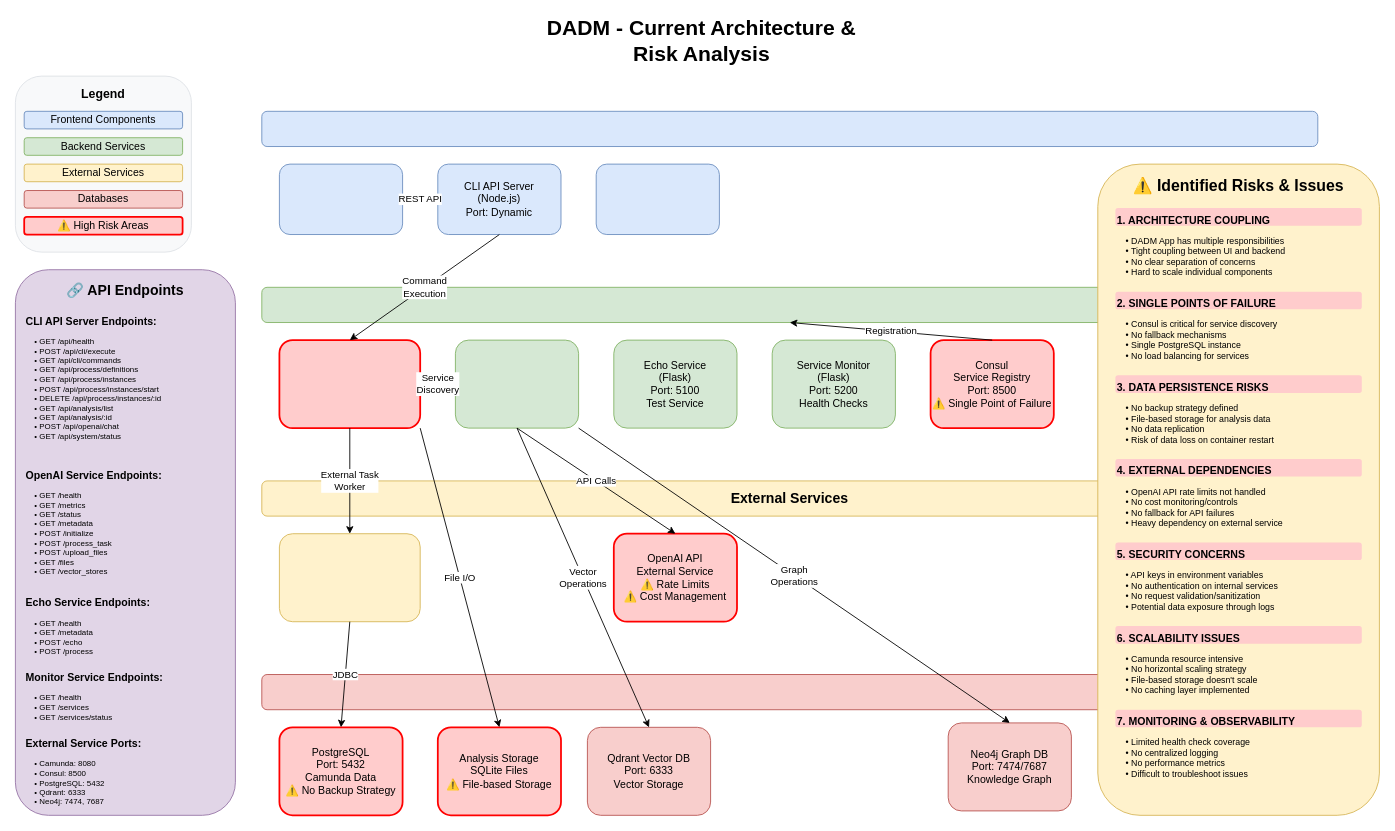
This 1395x831 diagram has some shape labels left out. The box of each missing label's shape, as (x1, y1, x2, y2) in pixels:
Backend Services Layer: (261, 286, 1318, 323)
BPMN Viewer (bpmn.js): (595, 163, 719, 235)
Camunda BPM Port: 8080 Process Engine ⚠️ Heavy Resource Usage: (279, 533, 420, 622)
DADM Main App (Python Flask) Camunda Worker ⚠️ Multiple Responsibilities: (278, 339, 421, 429)
Database Layer: (261, 674, 1318, 710)
Frontend Layer: (261, 110, 1318, 147)
OpenAI Service (Flask) Port: 5000 Assistant API: (455, 339, 579, 428)
React UI (Port 3000): (279, 163, 403, 235)
